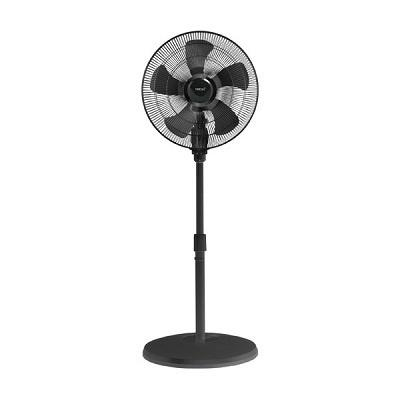fan: (131, 34, 279, 380)
